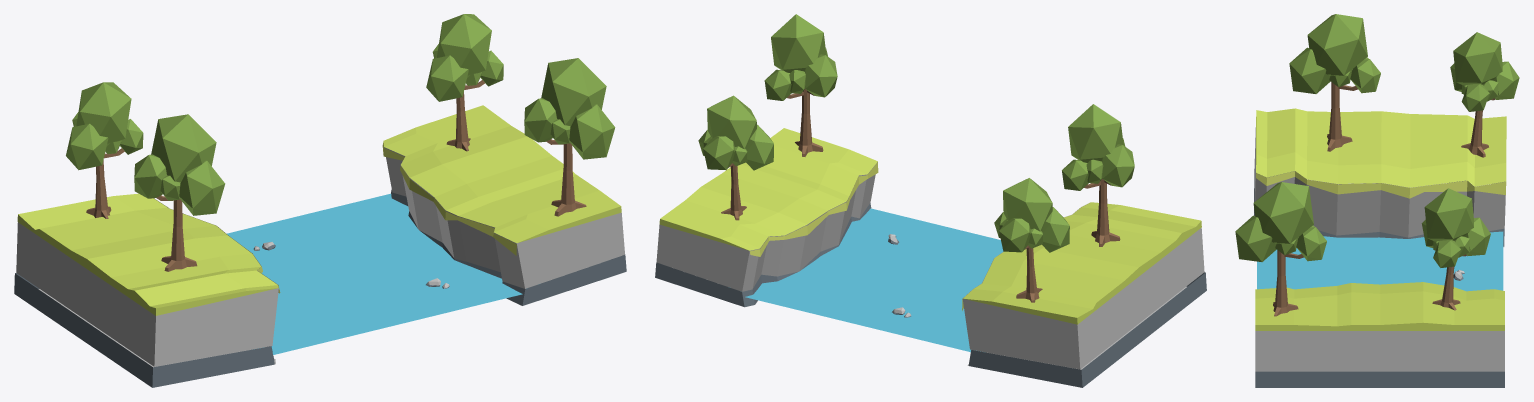
Rendered from forGandalf.glb.
3 renders of one model, left to right at view 1: azimuth 30°, elevation 25°; view 2: azimuth 150°, elevation 25°; view 3: azimuth 270°, elevation 25°, orthographic. The views are drawn at different scales.
Visible parts, largest first — view 1: Plane.001, Cube.045, Cube.041, Cube.044, Cube.040, Icosphere.011, Icosphere.001, Cube.046, Icosphere.003, Icosphere.008, Cube.042, Cube.043 (+4 smaller); view 2: Plane.001, Cube.045, Cube.041, Cube.044, Cube.040, Cube.046, Icosphere.011, Icosphere.001, Icosphere.003, Icosphere.008, Cube.042, Cube.043 (+4 smaller); view 3: Cube.045, Cube.041, Cube.040, Plane.001, Cube.044, Icosphere.001, Icosphere.011, Cube.042, Icosphere.003, Icosphere.008, Cube.047, Icosphere.012 (+4 smaller).
Boxes of the visible parts, x1,y1,x2,y2 form: Plane.001: (227,193,522,354); Cube.045: (17,193,278,315); Cube.041: (383,105,621,243); Cube.044: (16,199,278,367); Cube.040: (384,147,624,305); Icosphere.011: (134,114,225,215); Icosphere.001: (524,58,615,159); Cube.046: (14,273,274,387); Icosphere.003: (426,14,503,101); Icosphere.008: (66,82,143,170); Cube.042: (391,189,626,305); Cube.043: (382,142,516,255); Plane.001: (745,208,1003,352); Cube.045: (963,202,1201,324); Cube.041: (659,128,877,250); Cube.044: (962,204,1204,369); Cube.040: (656,162,877,307); Cube.046: (968,272,1206,387); Icosphere.011: (1062,104,1134,190); Icosphere.001: (764,14,837,100); Icosphere.003: (698,95,773,170); Icosphere.008: (994,178,1069,252); Cube.042: (655,203,871,307); Cube.043: (749,163,878,256); Cube.045: (1256,108,1506,187); Cube.041: (1255,282,1504,330); Cube.040: (1255,331,1504,371); Plane.001: (1257,231,1503,291); Cube.044: (1254,127,1505,247); Icosphere.001: (1235,182,1326,261); Icosphere.011: (1289,14,1380,93); Cube.042: (1255,371,1504,387); Icosphere.003: (1421,188,1490,267); Icosphere.008: (1450,32,1519,111); Cube.047: (1256,171,1506,198); Icosphere.012: (1327,82,1357,151).
Bounding box in the file's own units: 15.29 × 7.22 × 8.75.
